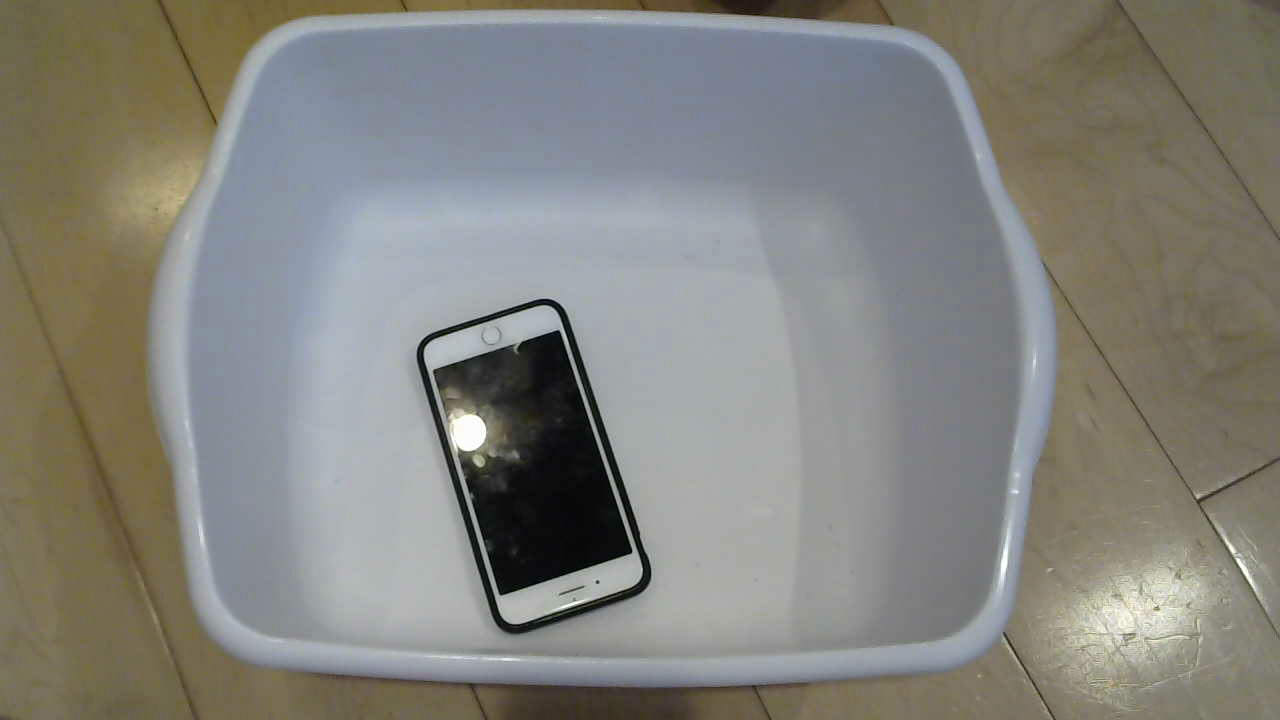phone: (404, 304, 683, 638)
